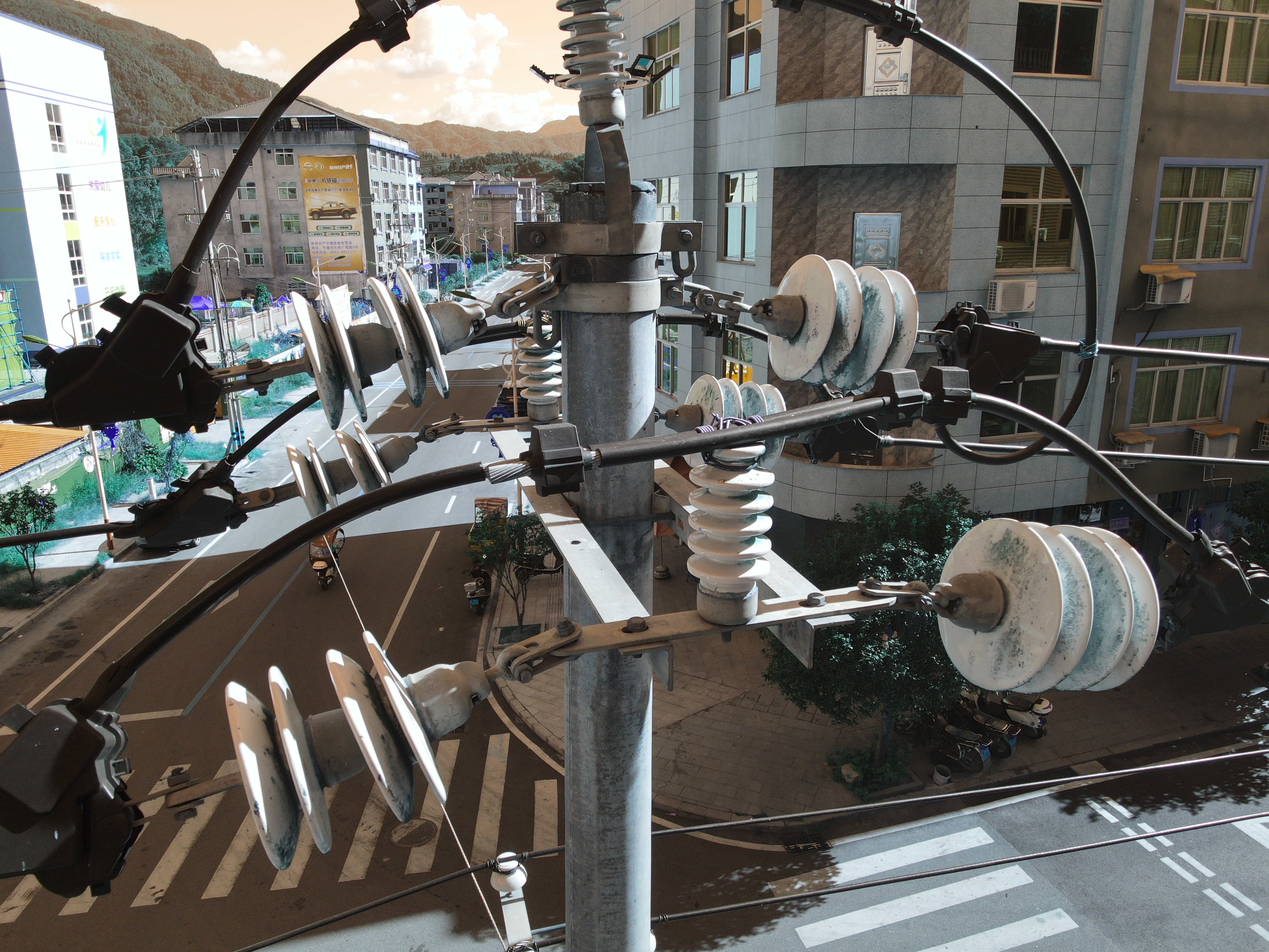severe_soiling_no_discharge_whole: (219, 627, 493, 873), (931, 518, 1165, 694), (286, 260, 489, 432), (747, 253, 923, 395), (683, 436, 780, 626), (282, 422, 418, 519), (665, 372, 792, 472), (553, 3, 634, 131), (513, 327, 565, 425)
